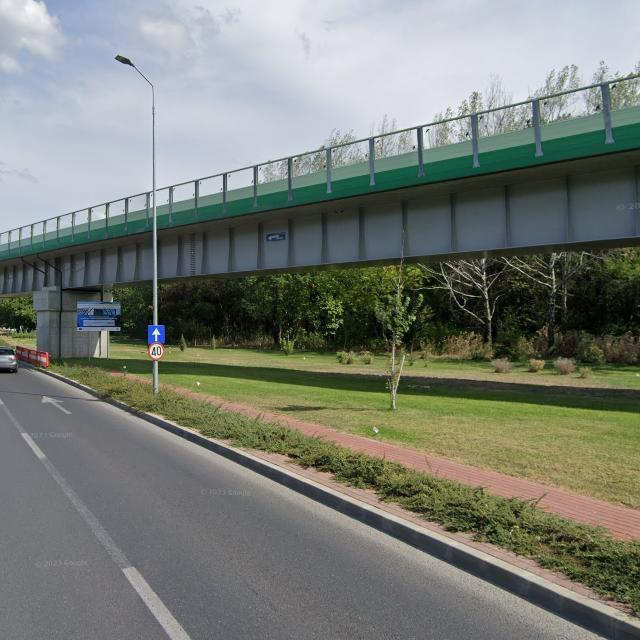forb_speed_over_40: (149, 341, 165, 359)
